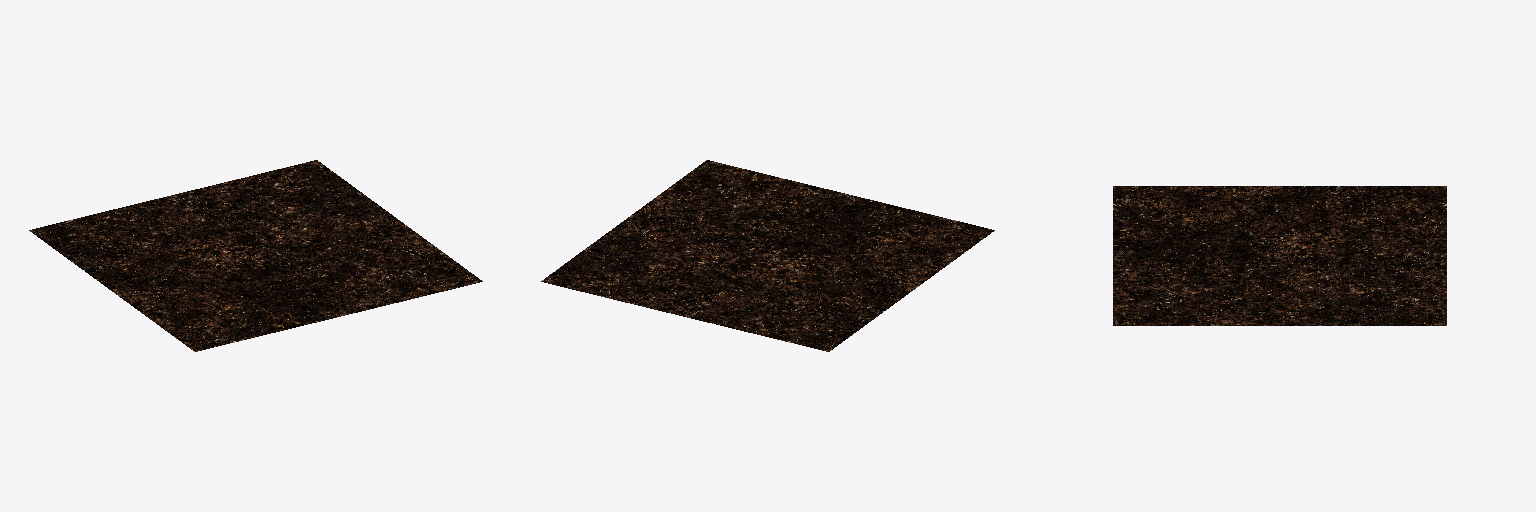
3 renders of one model, left to right at view 1: azimuth 30°, elevation 25°; view 2: azimuth 150°, elevation 25°; view 3: azimuth 270°, elevation 25°, orthographic.
Parts seen in each view (by area): view 1: Grim_Bear_Background_Dirt; view 2: Grim_Bear_Background_Dirt; view 3: Grim_Bear_Background_Dirt.
Part boxes in pixels (bbox=[...]): Grim_Bear_Background_Dirt: bbox=[29, 160, 482, 351]; Grim_Bear_Background_Dirt: bbox=[541, 160, 994, 351]; Grim_Bear_Background_Dirt: bbox=[1113, 186, 1446, 325].
Bounding box in the file's own units: 256 × 0 × 256.
1 materials, 1 textured.